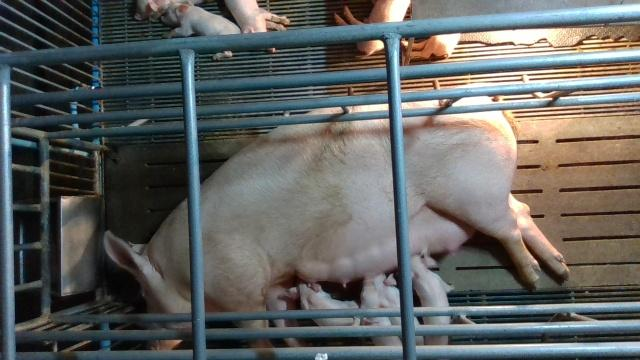piglet: (162, 1, 241, 60), (333, 0, 411, 54), (410, 255, 454, 345), (372, 274, 424, 345), (225, 0, 289, 52), (360, 278, 402, 346), (299, 281, 361, 325), (401, 33, 461, 59), (135, 0, 204, 22)
sow-sleep-lactate: (105, 85, 570, 350)
